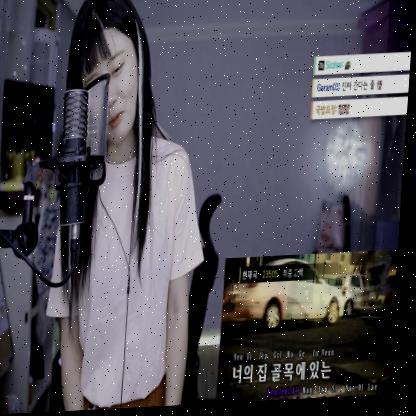streamer: (44, 0, 223, 413)
